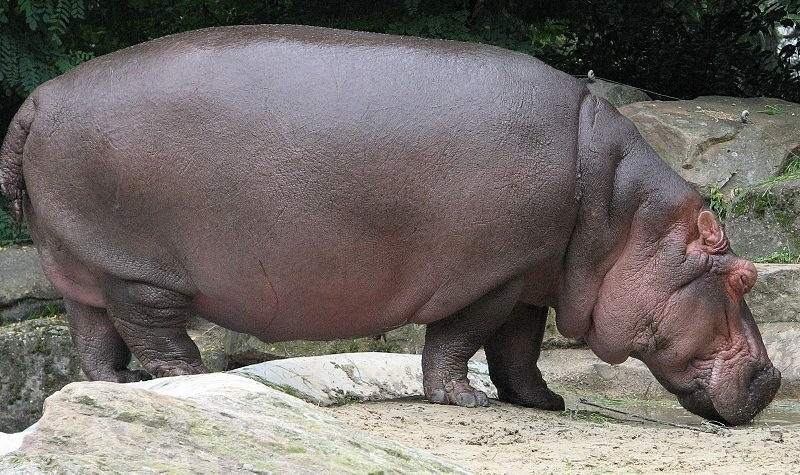hipopotamo: (1, 17, 789, 436)
